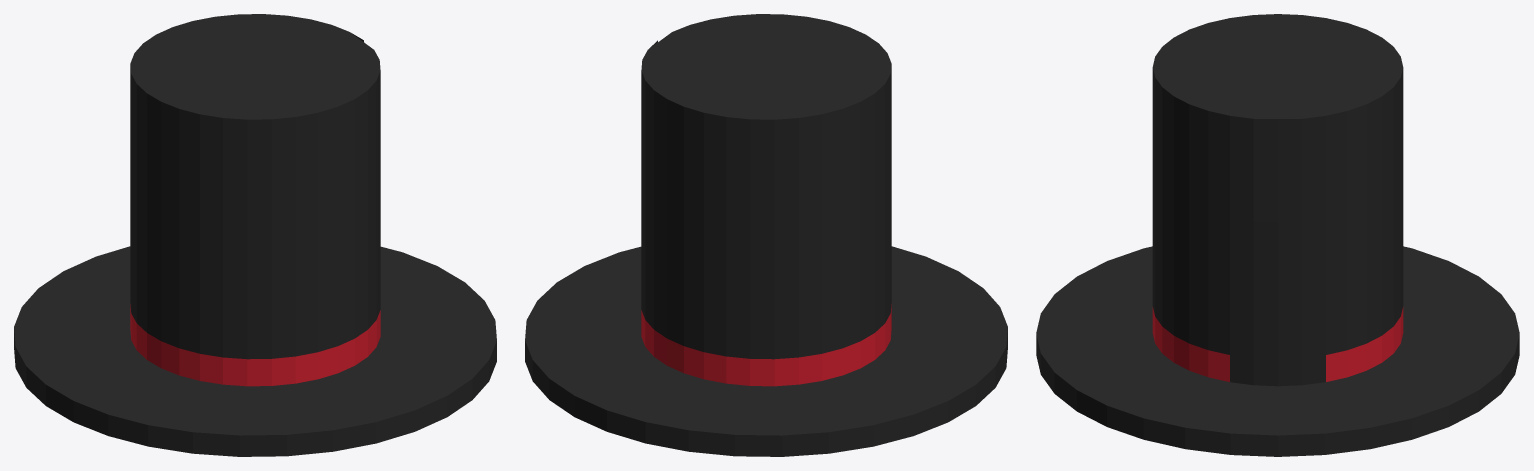
File: sombrerodecopa.fbx
The picture shows the model from 3 angles, left to right: view 1: azimuth 30°, elevation 25°; view 2: azimuth 150°, elevation 25°; view 3: azimuth 270°, elevation 25°; orthographic projection.
Visible parts, largest first — view 1: Circle; view 2: Circle; view 3: Circle.
Boxes of the visible parts, x1,y1,x2,y2 form: Circle: [14, 14, 496, 456]; Circle: [525, 14, 1007, 456]; Circle: [1036, 14, 1519, 456].
Bounding box in the file's own units: 386 × 254 × 386.
